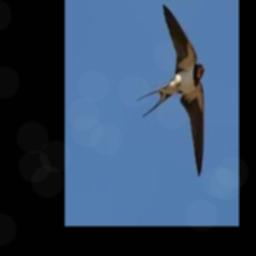Swallow: (138, 4, 206, 177)
